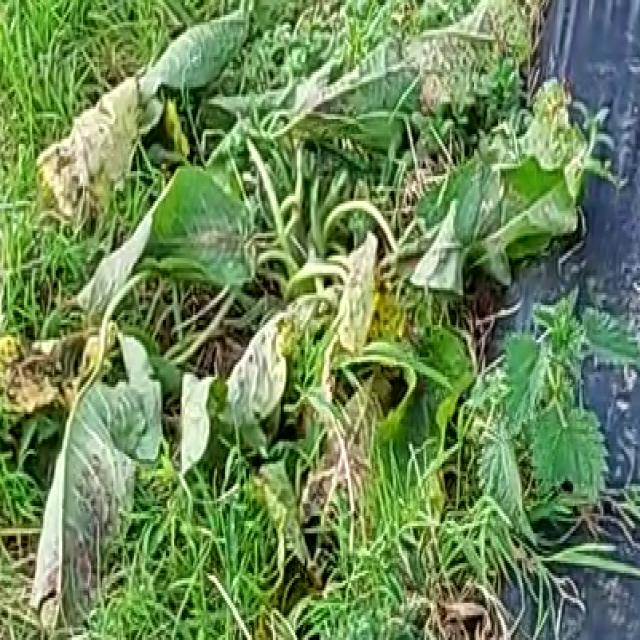organic waste: (45, 0, 557, 610)
